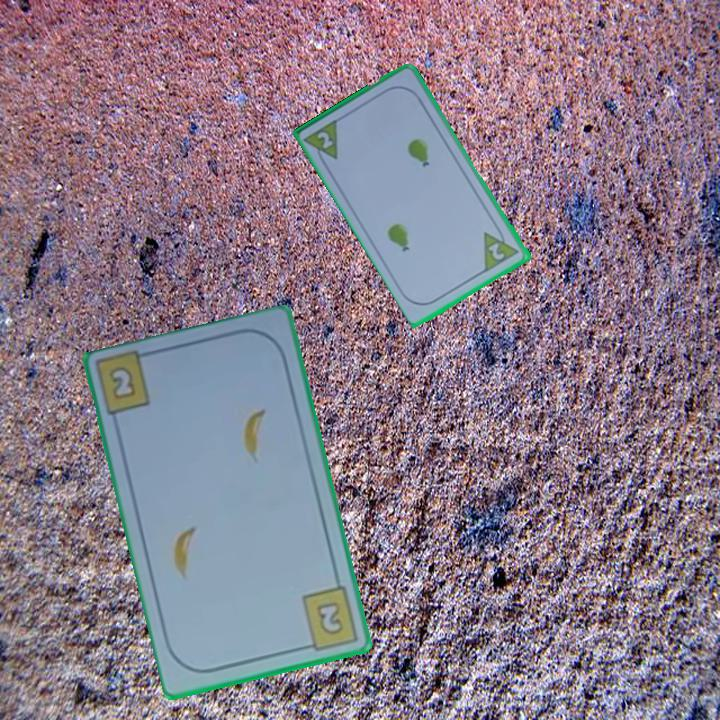2b: (297, 582, 361, 653), (105, 362, 139, 403)
2p: (302, 115, 342, 169), (485, 239, 508, 263)
